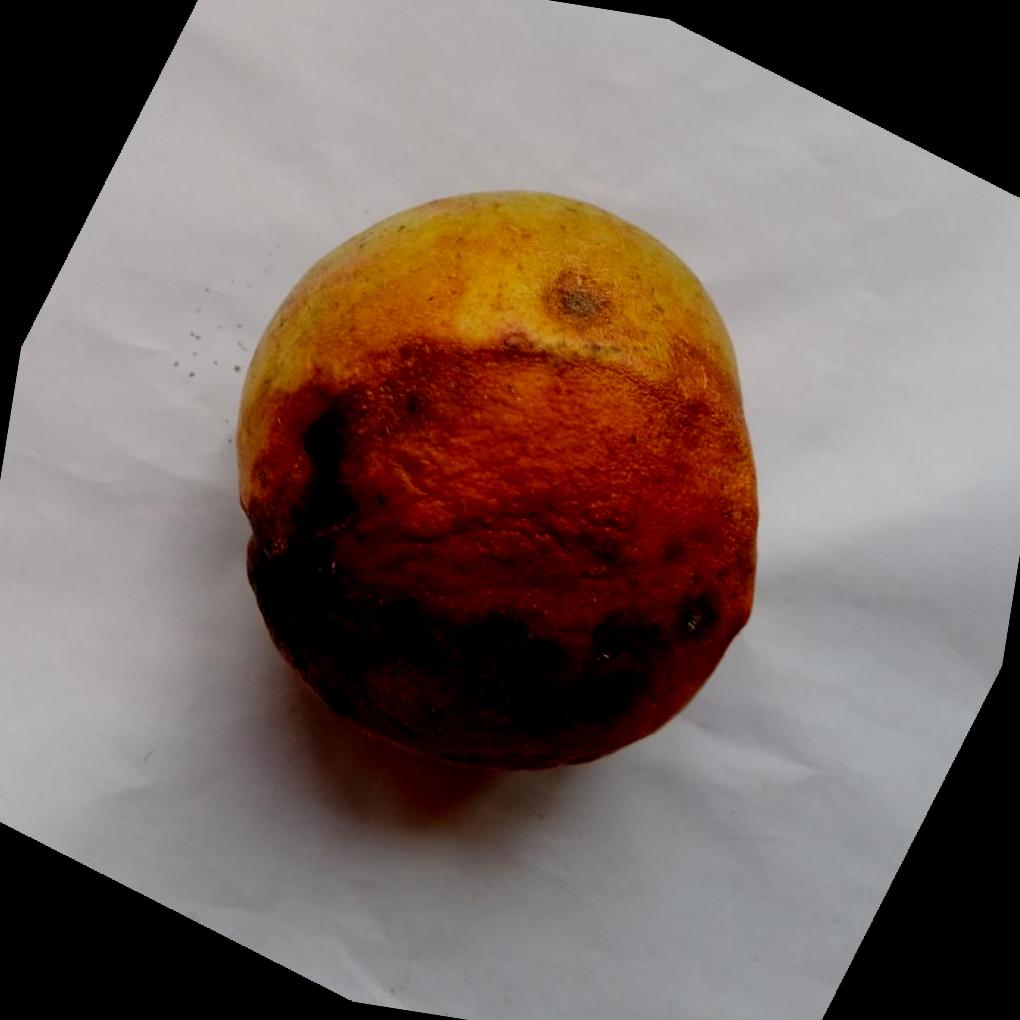FreshOrange: (228, 188, 757, 773)
